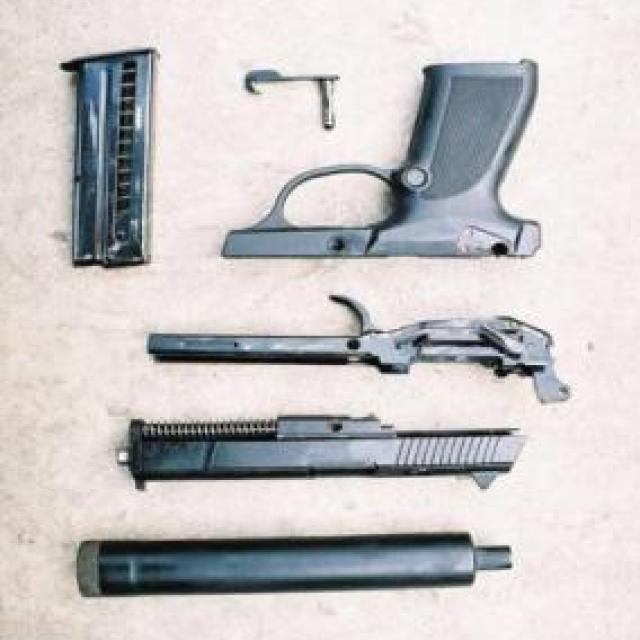pistol: (148, 55, 538, 363)
